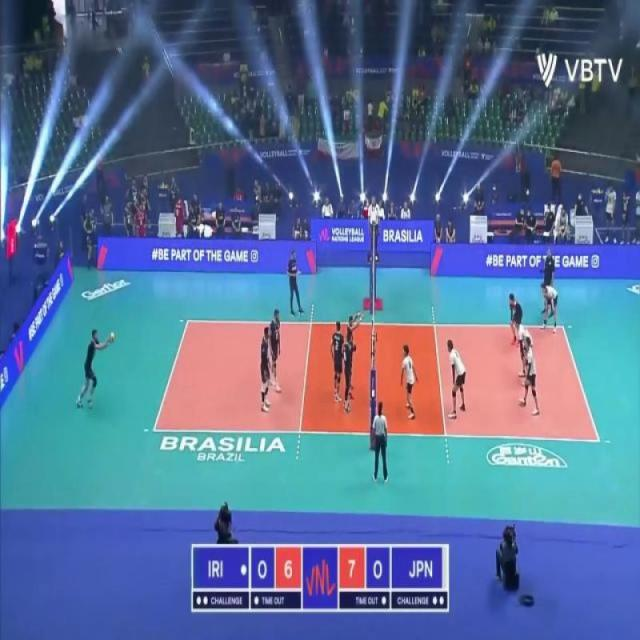volleyball: (109, 330, 115, 345), (160, 181, 165, 189)
